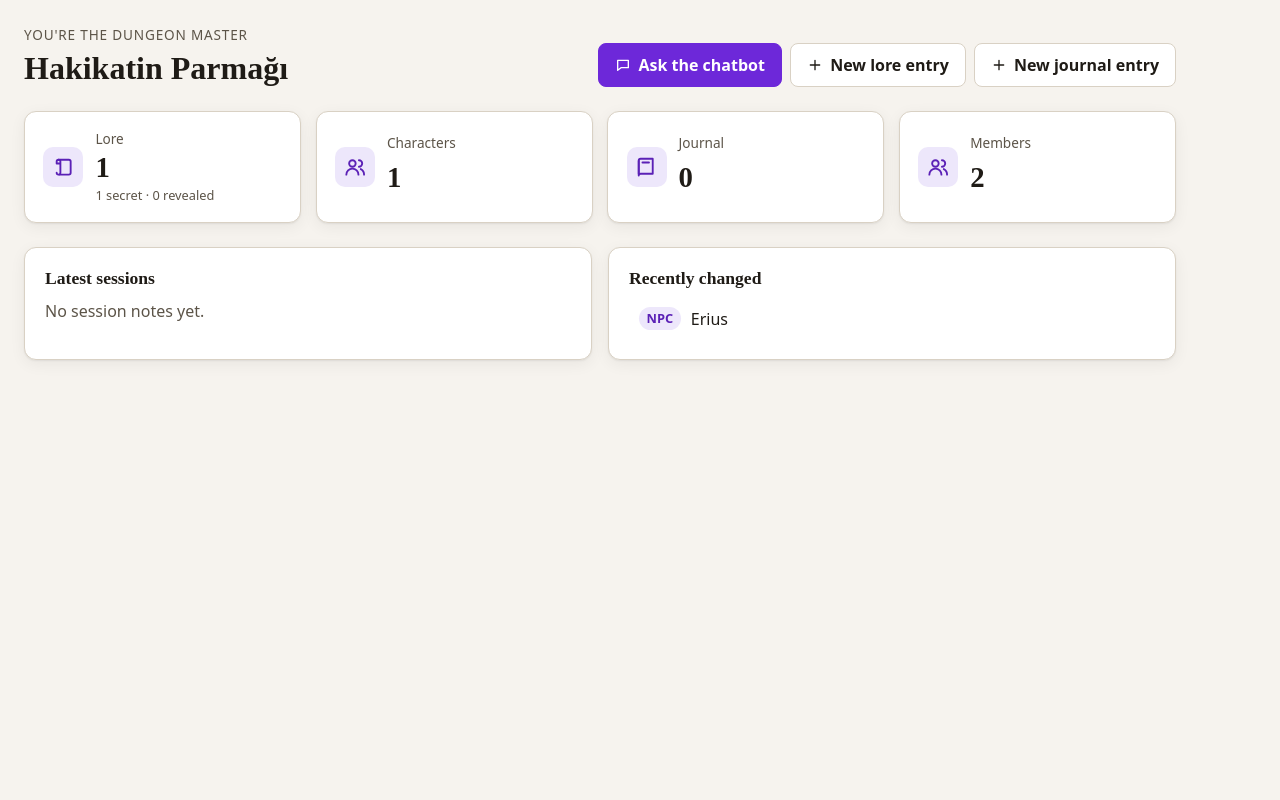
Test case: layout review fixes › the overview refreshes after an entry opened from it changes
The width and height of the screenshot is (1280, 800).
Click the button "NPC Erius".
click(660, 319)  # box 629,298 -> 1155,339
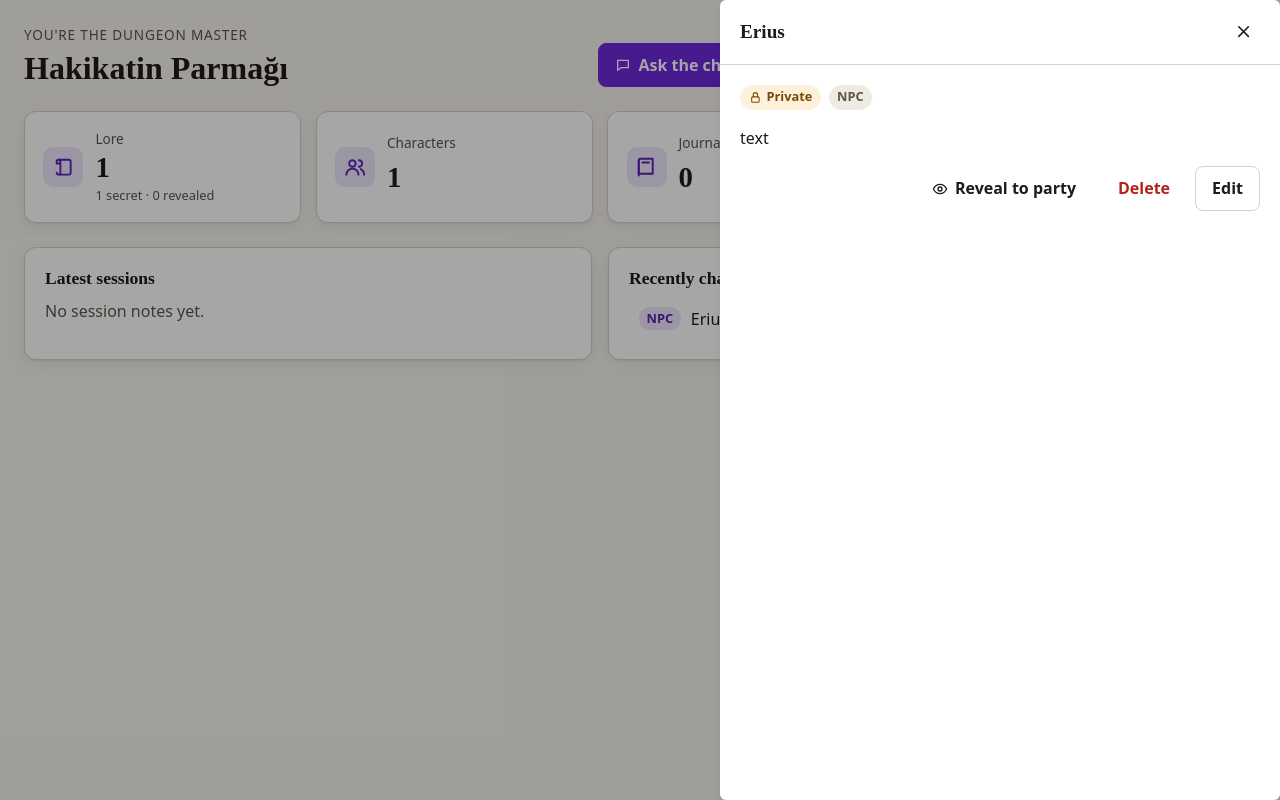
Click the button "Delete".
click(1144, 189)  # box 1101,166 -> 1187,211
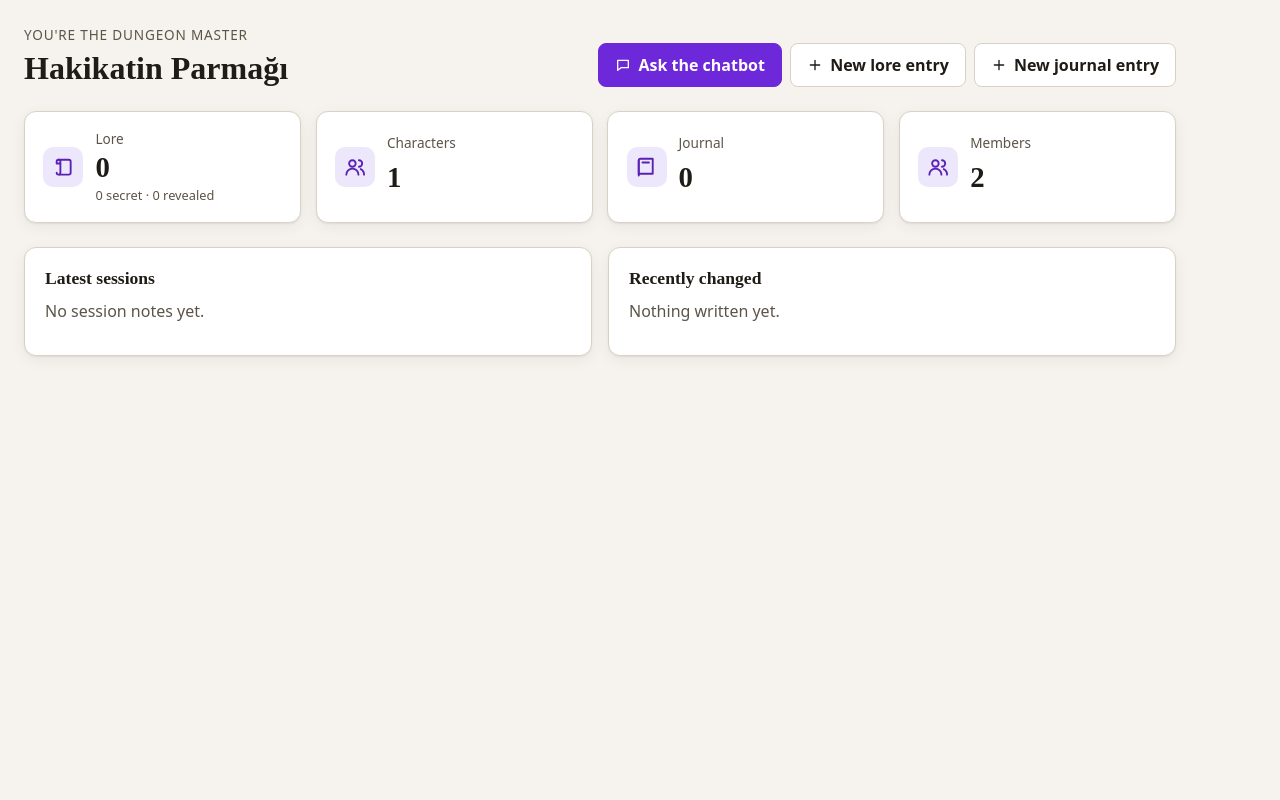
Now the text "Nothing written yet." is shown, box 629,300 -> 780,322
